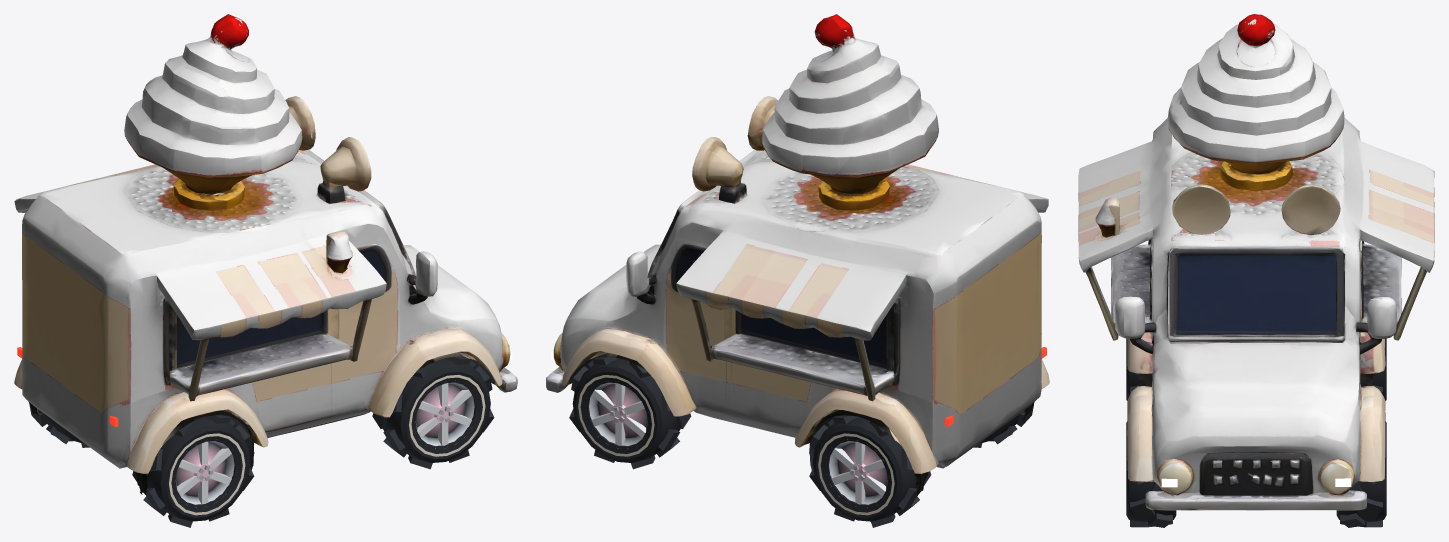
The model's file is car-softeis.glb.
3 renders of one model, left to right at view 1: azimuth 30°, elevation 25°; view 2: azimuth 150°, elevation 25°; view 3: azimuth 270°, elevation 25°, orthographic.
Visible parts, largest first — view 1: body, cone, wheel_fr, wheel_rr, wheel_rl; view 2: body, cone, wheel_fl, wheel_rl, wheel_rr; view 3: body, cone, wheel_fl, wheel_fr.
Part boxes in pixels (x1,y1,x2,y2): body: (14, 96, 517, 494); cone: (40, 14, 345, 255); wheel_fr: (372, 357, 494, 469); wheel_rr: (132, 415, 254, 527); wheel_rl: (29, 405, 89, 447); body: (546, 96, 1049, 497); cone: (762, 14, 1023, 255); wheel_fl: (569, 357, 691, 469); wheel_rl: (809, 415, 931, 527); wheel_rr: (973, 404, 1033, 447); body: (1078, 117, 1434, 510); cone: (1107, 14, 1344, 204); wheel_fl: (1336, 421, 1386, 527); wheel_fr: (1126, 421, 1176, 527).
Size of the model in its own units: 5.1 by 5.36 by 3.98.
Materials: 5 (1 with a texture image).
